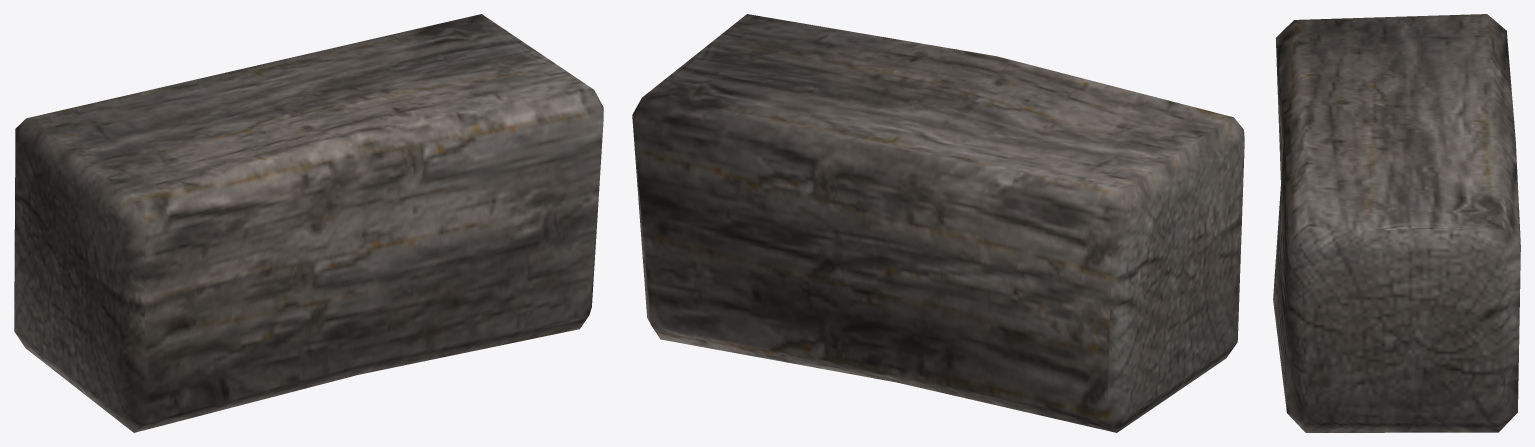
The model's file is beam SMALL.fbx.
3 views of the same model, side by side, from view 1: azimuth 30°, elevation 25°; view 2: azimuth 150°, elevation 25°; view 3: azimuth 270°, elevation 25° (orthographic). The views are drawn at different scales.
Visible parts, largest first — view 1: beam small lp.001; view 2: beam small lp.001; view 3: beam small lp.001.
Part boxes in pixels (x1=…): beam small lp.001: x1=14, y1=14, x2=603, y2=432; beam small lp.001: x1=632, y1=14, x2=1244, y2=432; beam small lp.001: x1=1273, y1=14, x2=1520, y2=432.
Size of the model in its own units: 83.19 by 40.95 by 40.79.
